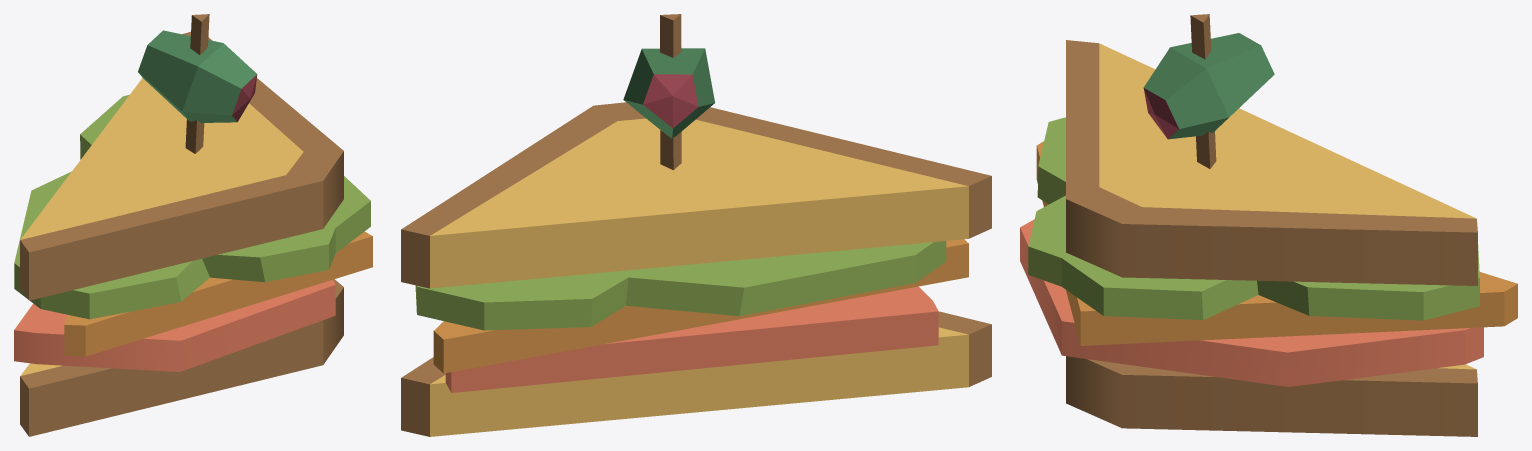
The model's file is Sandwich_02.FBX.
3 renders of one model, left to right at view 1: azimuth 30°, elevation 25°; view 2: azimuth 150°, elevation 25°; view 3: azimuth 270°, elevation 25°, orthographic. The views are drawn at different scales.
Visible parts, largest first — view 1: Sandwich_02; view 2: Sandwich_02; view 3: Sandwich_02.
Part boxes in pixels (box(x1,y1,x2,y2)): Sandwich_02: box(14, 14, 372, 436); Sandwich_02: box(401, 14, 991, 436); Sandwich_02: box(1020, 14, 1517, 436).
Size of the model in its own units: 20.07 by 16.65 by 21.26.
